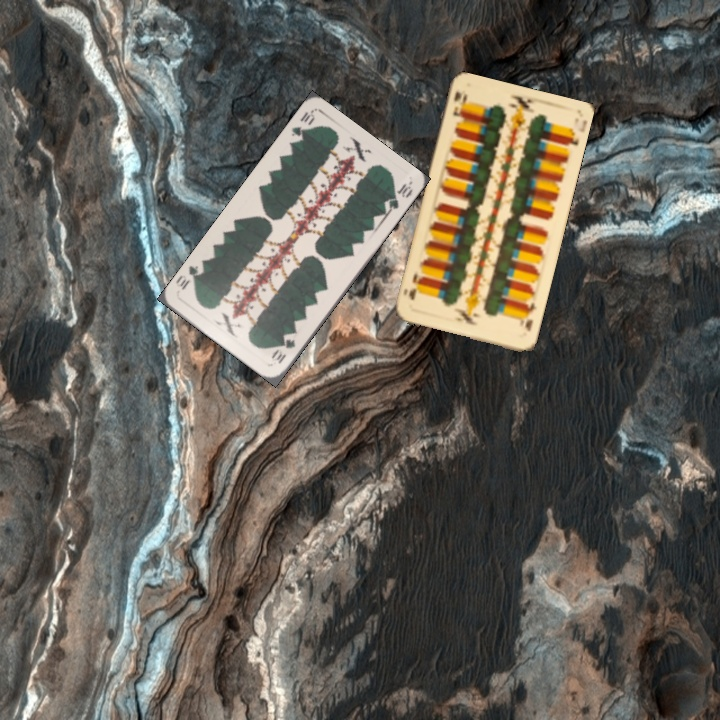E10: (516, 298, 540, 334), (449, 87, 469, 120)
G10: (287, 107, 318, 146), (267, 335, 298, 367)
